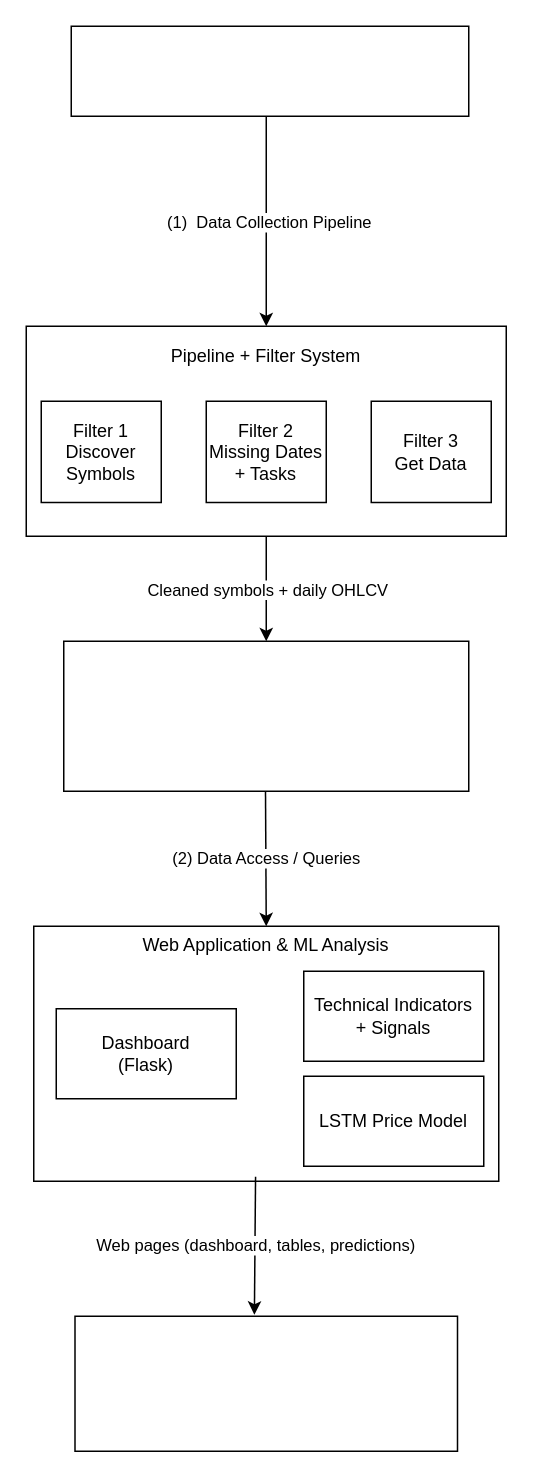
The diagram is 533 pixels wide and 1478 high, and some of its shapes have lost their labels. The shapes that lost their labels are listed below. From the top down, each one's centre as x and y in pixels, then its label:
the point at 269,70: External Data Sources: Binance Public REST API
the point at 265,715: SQLite Local Database - Cryptocurrencies metadata - Daily OHLCV historical data
the point at 266,1383: User / Analyst / Trader (Interacts via web dashboard)
